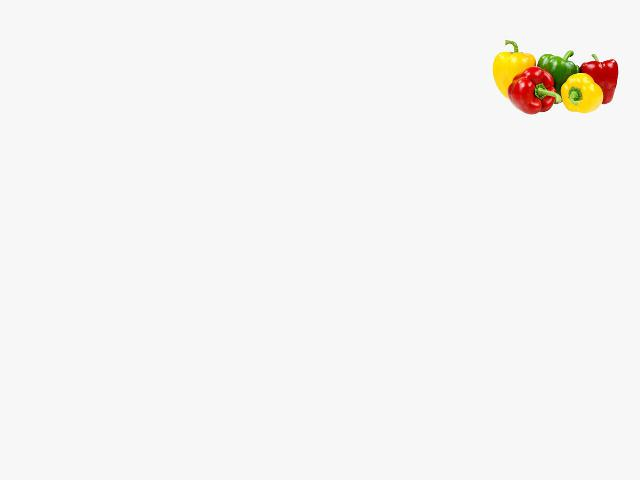bell_pepper: (580, 52, 621, 97)
